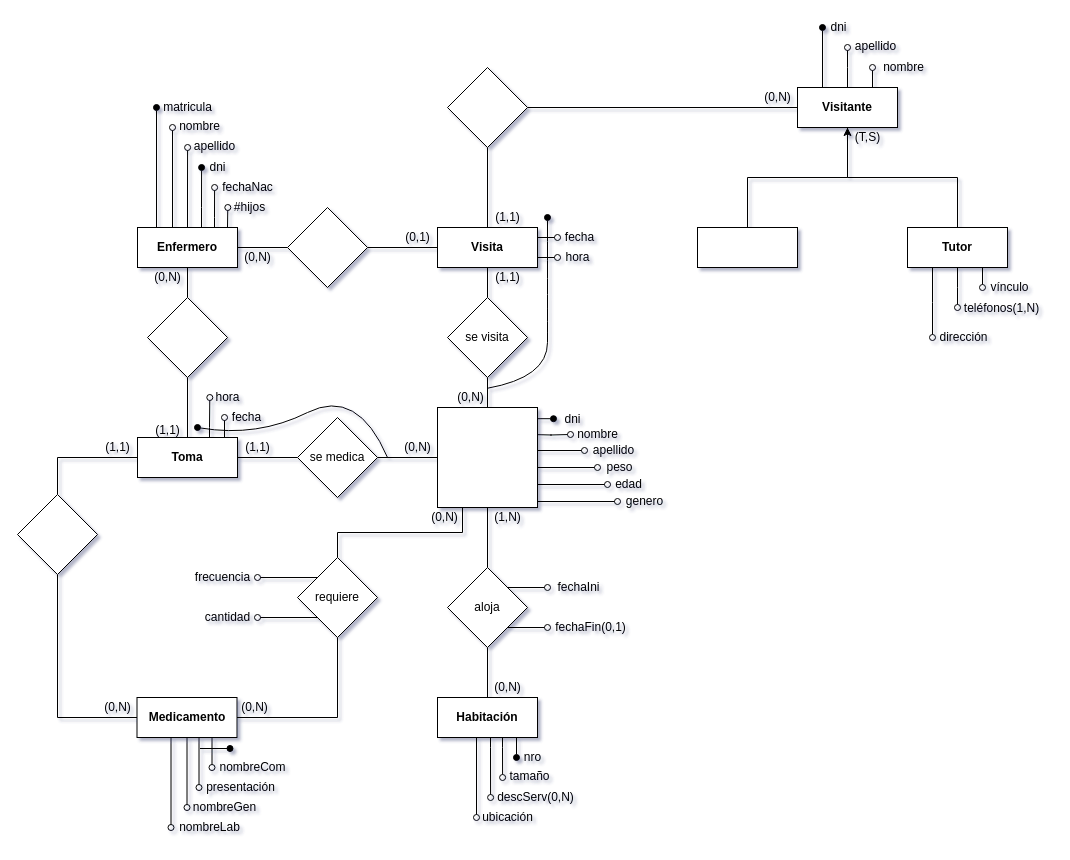
This 1070x860 diagram has some shape labels left out. The shapes that lost their labels are listed below. From the top down, each one's centre as x and y in pixels, then its label:
At [487,107]: "realiza".
At [327,247]: "supervisa".
At [747,247]: "Autorizado".
At [187,337]: "suministra".
At [487,457]: "Niño".
At [57,534]: "se toma".
